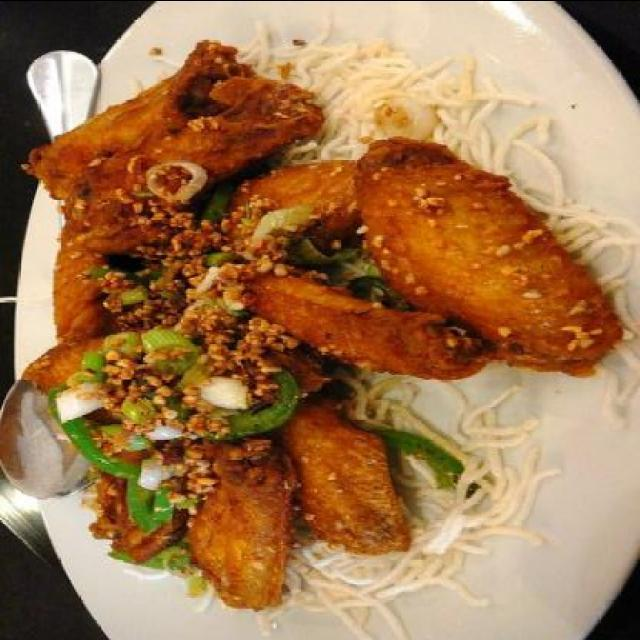Deep fried chicken wing: (45, 66, 581, 598)
